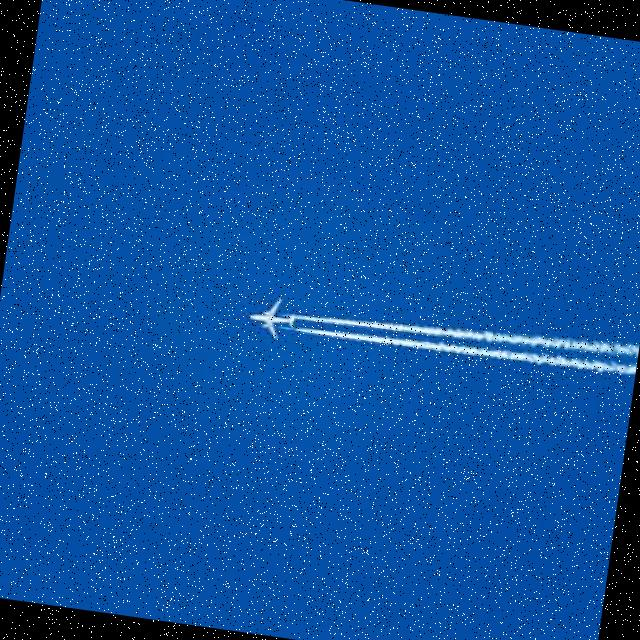Cu: (299, 288, 640, 391)
